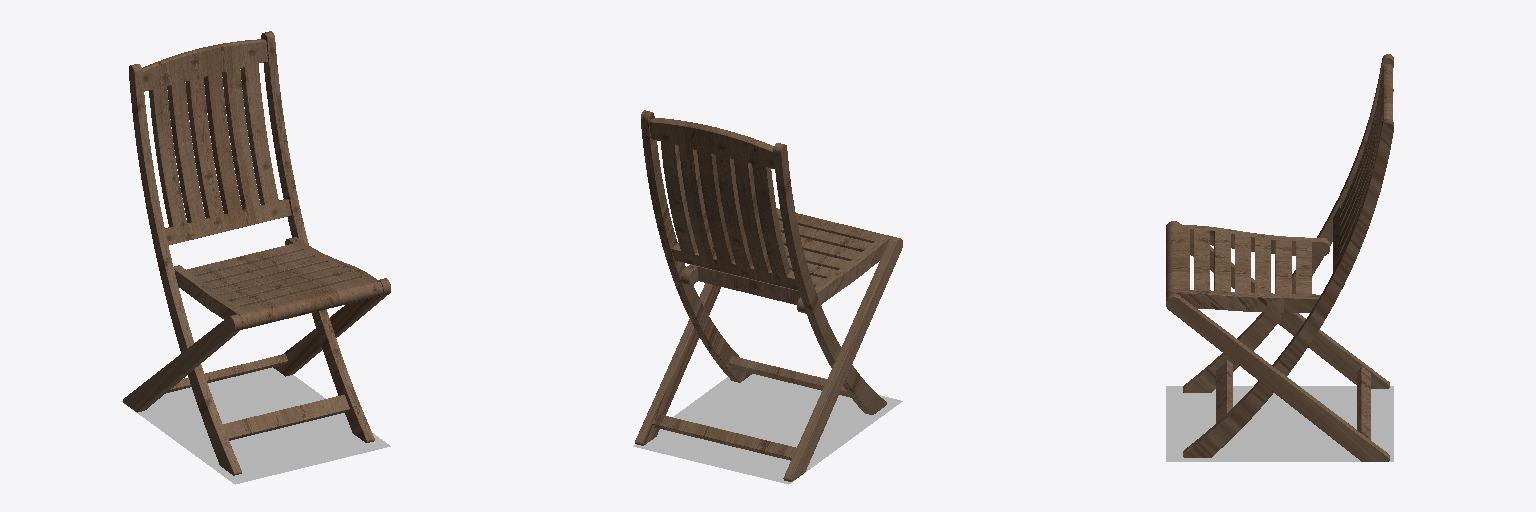
The picture shows the model from 3 angles: view 1: azimuth 30°, elevation 25°; view 2: azimuth 150°, elevation 25°; view 3: azimuth 270°, elevation 25°; orthographic projection.
Parts seen in each view (by area): view 1: default_1_2; view 2: default_1_2; view 3: default_1_2.
Boxes of the visible parts, <box> form: default_1_2: <box>123,31,390,475</box>; default_1_2: <box>635,110,902,481</box>; default_1_2: <box>1166,54,1393,461</box>.
Bounding box in the file's own units: 44.4 × 91 × 56.2.
1 materials, 1 textured.